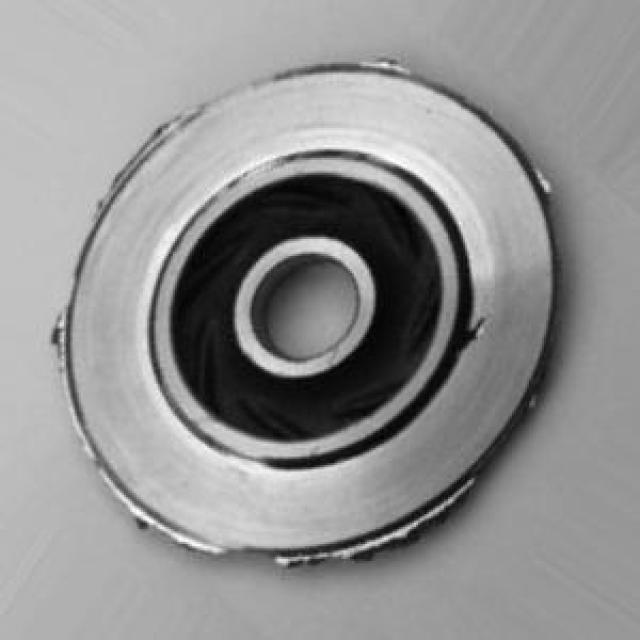Defect: (449, 313, 491, 359), (52, 303, 71, 372)
